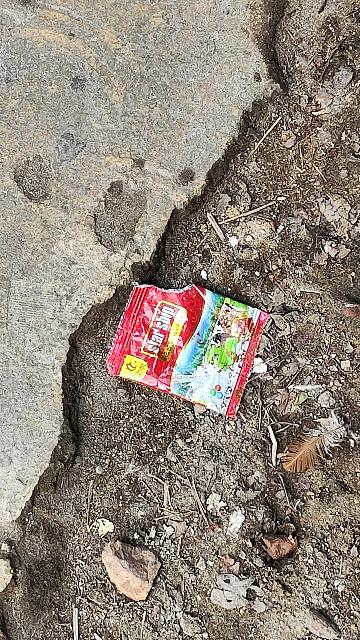packet: (95, 264, 271, 420)
